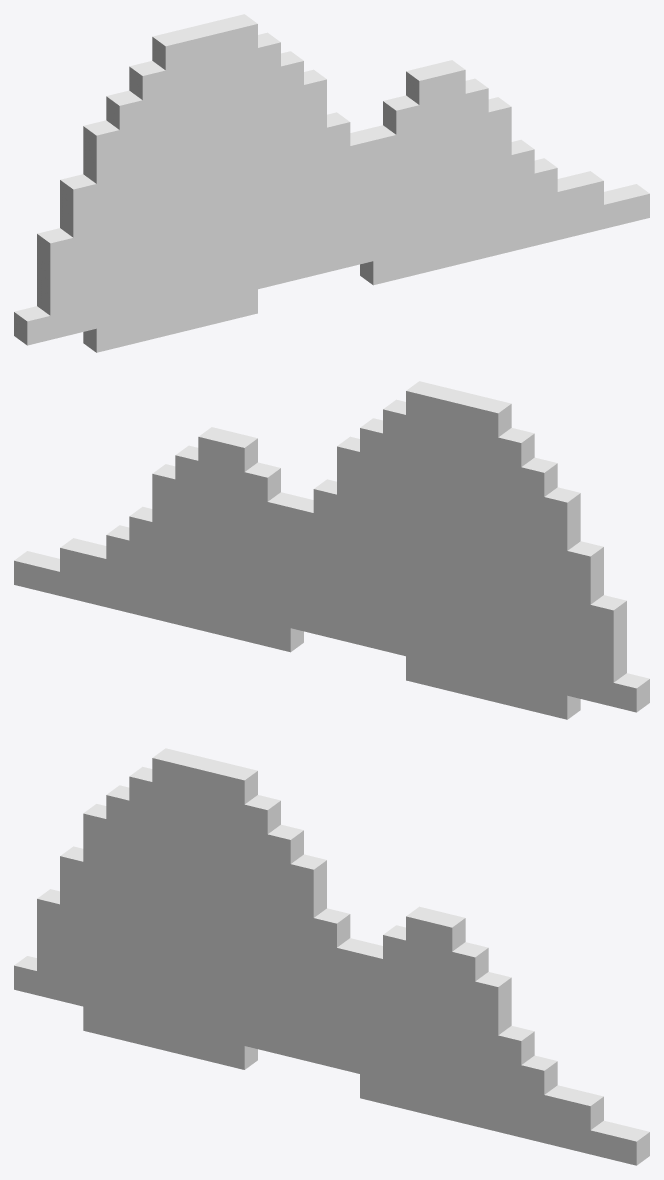
The model's file is Cloud1.dae.
The picture shows the model from 3 angles, top to bottom: view 1: azimuth 30°, elevation 25°; view 2: azimuth 150°, elevation 25°; view 3: azimuth 330°, elevation 25°; orthographic projection.
Visible parts, largest first — view 1: Clouds; view 2: Clouds; view 3: Clouds.
Boxes of the visible parts, x1,y1,x2,y2 form: Clouds: (14, 14, 649, 352); Clouds: (14, 381, 649, 719); Clouds: (14, 748, 649, 1165).
Bounding box in the file's own units: 27 × 12 × 1.
1 material, 1 textured.
